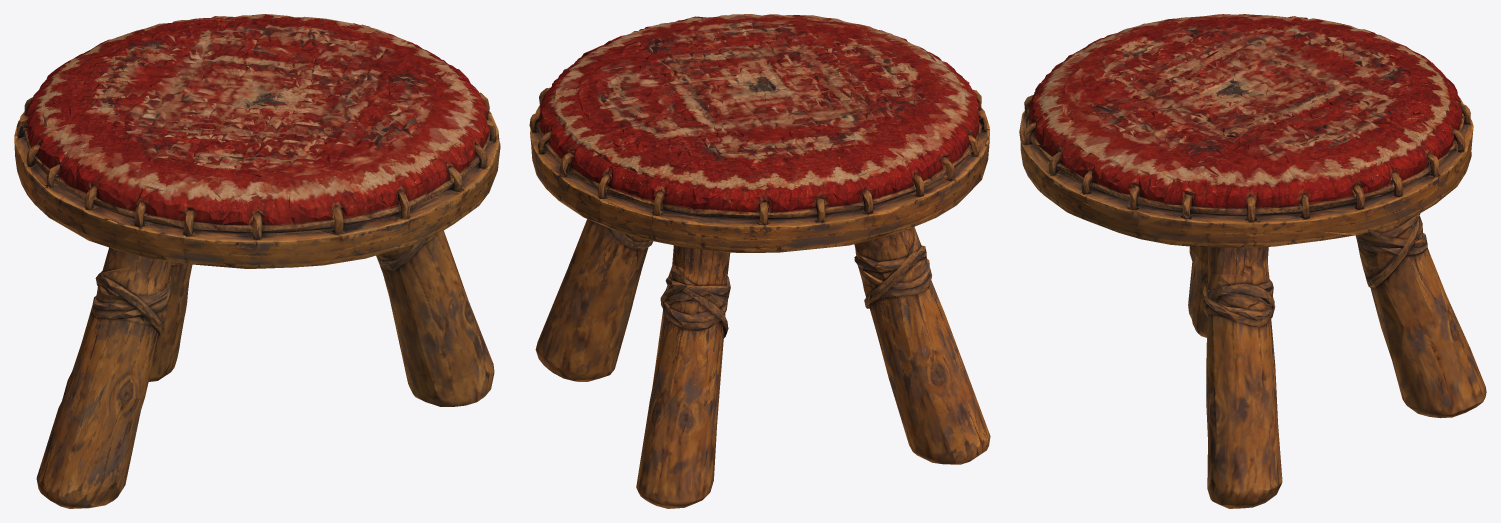
Rendered from stool.glb.
The picture shows the model from 3 angles, left to right: view 1: azimuth 30°, elevation 25°; view 2: azimuth 150°, elevation 25°; view 3: azimuth 270°, elevation 25°; orthographic projection. The views are drawn at different scales.
Size of the model in its own units: 1.9 by 1.42 by 1.8.
1 material, 1 textured.
